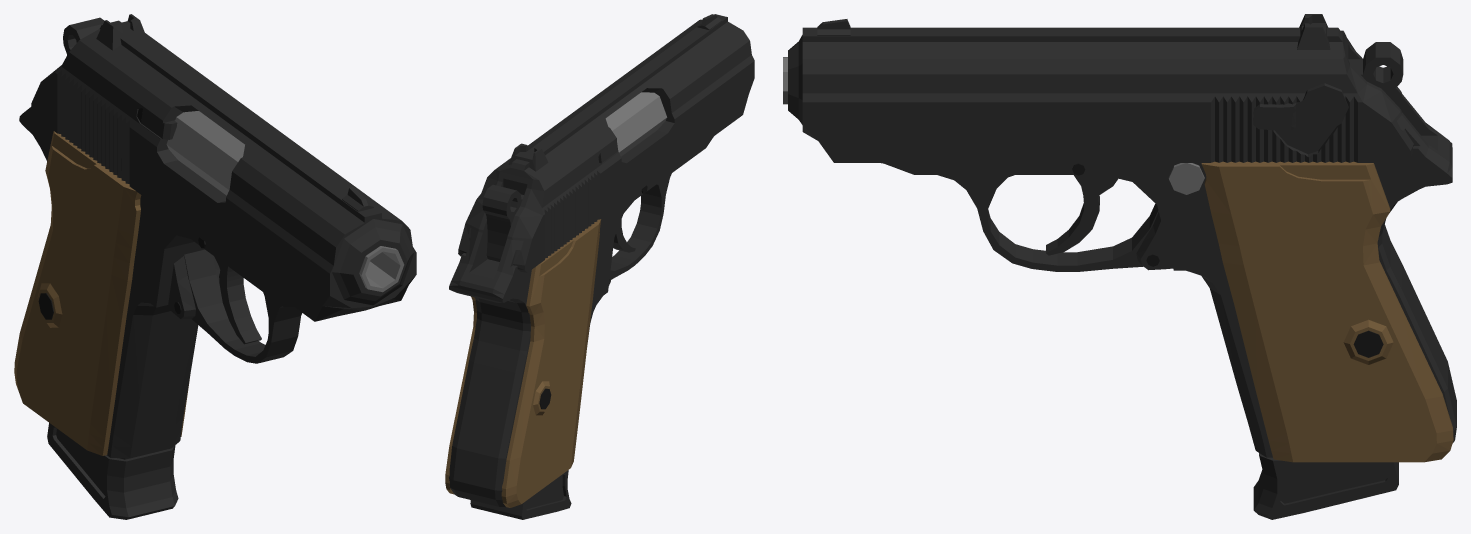
Rendered from ppk.glb.
The picture shows the model from 3 angles, left to right: view 1: azimuth 30°, elevation 25°; view 2: azimuth 150°, elevation 25°; view 3: azimuth 270°, elevation 25°; orthographic projection. The views are drawn at different scales.
Visible parts, largest first — view 1: Object_4, Object_2, Object_3, Object_5; view 2: Object_4, Object_2, Object_3; view 3: Object_4, Object_2, Object_3, Object_5.
Boxes of the visible parts, bbox=[...] form: Object_4: bbox=[19, 14, 416, 519]; Object_2: bbox=[14, 131, 189, 455]; Object_3: bbox=[166, 111, 404, 292]; Object_5: bbox=[38, 108, 205, 319]; Object_4: bbox=[449, 14, 754, 519]; Object_2: bbox=[445, 219, 601, 507]; Object_3: bbox=[605, 92, 667, 156]; Object_4: bbox=[788, 14, 1456, 519]; Object_2: bbox=[1201, 161, 1453, 462]; Object_3: bbox=[783, 57, 1204, 194]; Object_5: bbox=[1072, 163, 1383, 357].
Bounding box in the file's own units: 0.0316 × 0.1448 × 0.1829.
